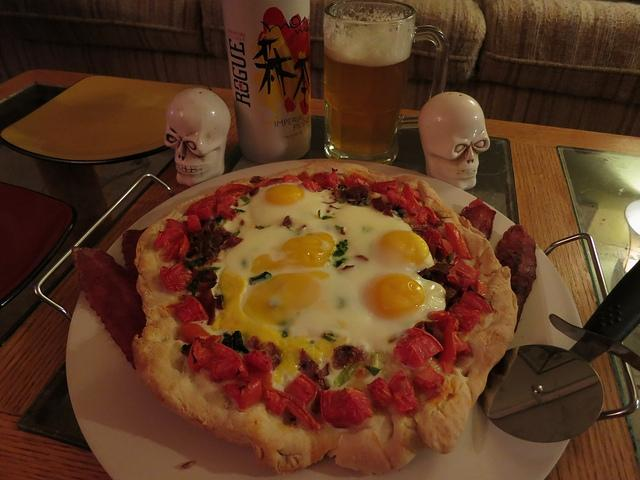tomato: (264, 386, 322, 431), (320, 388, 373, 430), (393, 327, 444, 368), (424, 317, 471, 354), (402, 183, 440, 226), (210, 342, 250, 382), (447, 258, 487, 298), (388, 369, 418, 414), (215, 184, 252, 220), (166, 294, 209, 324), (448, 301, 482, 334), (443, 222, 472, 260), (284, 374, 316, 408), (416, 366, 446, 400), (160, 261, 192, 292), (366, 377, 394, 411), (188, 340, 216, 374), (177, 322, 216, 346), (440, 317, 460, 363), (458, 291, 493, 314), (163, 233, 190, 262), (243, 362, 273, 388), (238, 378, 262, 410), (188, 194, 216, 220), (422, 228, 443, 260), (244, 350, 272, 372), (222, 382, 246, 405), (156, 228, 183, 248), (372, 180, 398, 195), (439, 238, 454, 262), (386, 190, 406, 207), (166, 219, 188, 234), (253, 177, 283, 188), (204, 334, 222, 350), (350, 173, 370, 187), (187, 215, 202, 232), (300, 180, 320, 192), (313, 172, 333, 184), (296, 170, 314, 183), (320, 179, 340, 189), (410, 188, 424, 202), (344, 187, 360, 199), (282, 174, 299, 184), (344, 178, 356, 189), (330, 168, 340, 181)
